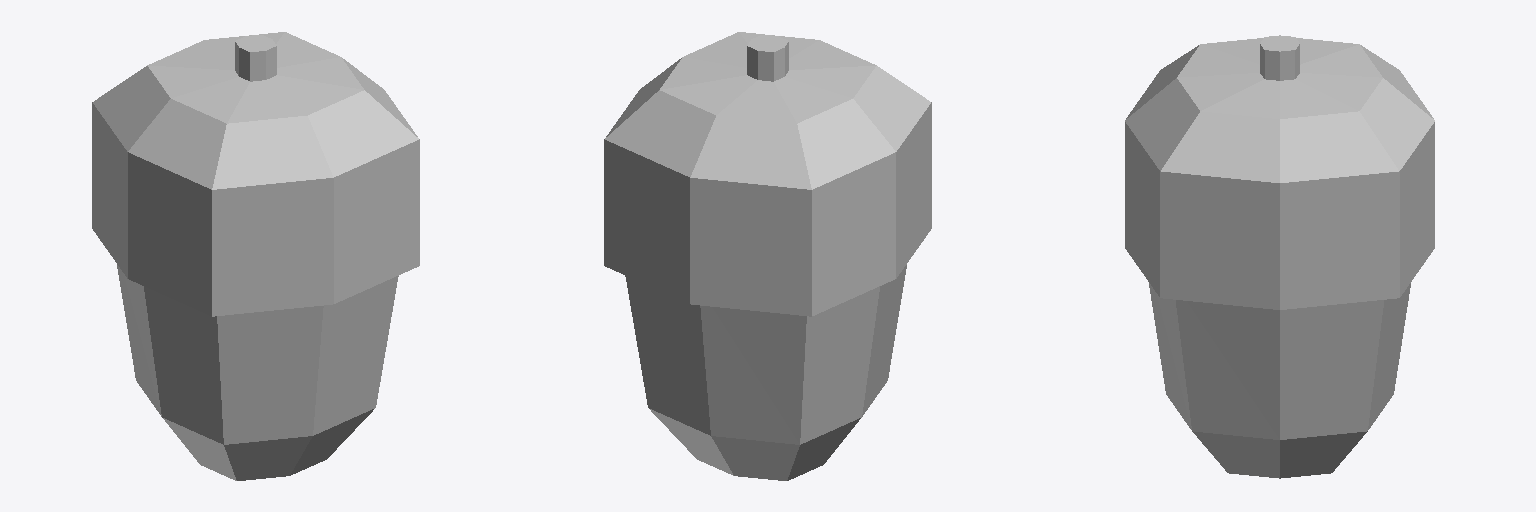
File: Bellota.obj
3 views of the same model, side by side, from view 1: azimuth 30°, elevation 25°; view 2: azimuth 150°, elevation 25°; view 3: azimuth 270°, elevation 25° (orthographic).
Parts seen in each view (by area): view 1: Bellota_Cube; view 2: Bellota_Cube; view 3: Bellota_Cube.
Part boxes in pixels (left/top/right/bottom): Bellota_Cube: left=92, top=32, right=419, bottom=480; Bellota_Cube: left=604, top=32, right=931, bottom=480; Bellota_Cube: left=1125, top=35, right=1434, bottom=478.
Bounding box in the file's own units: 3.37 × 5.34 × 3.54.